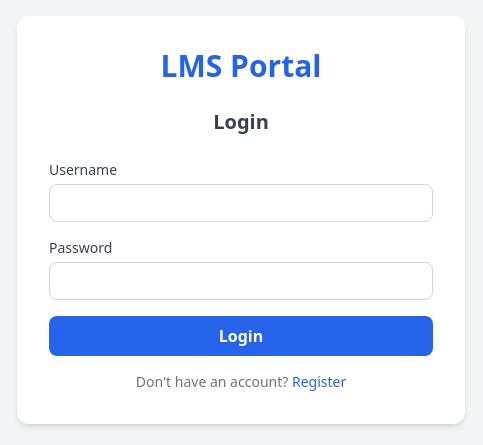
Scenario: Login Page › shows loading state while submitting
Type "student1" into the field labelled "Username" at (241, 203), box [49,184,433,222]
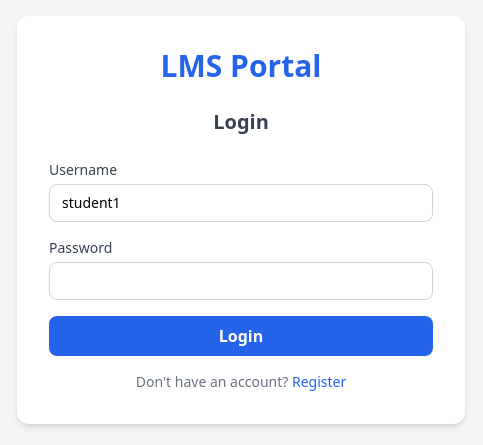
Type "pass1234" into the password field labelled "Password" at (241, 281), box [49,262,433,300]
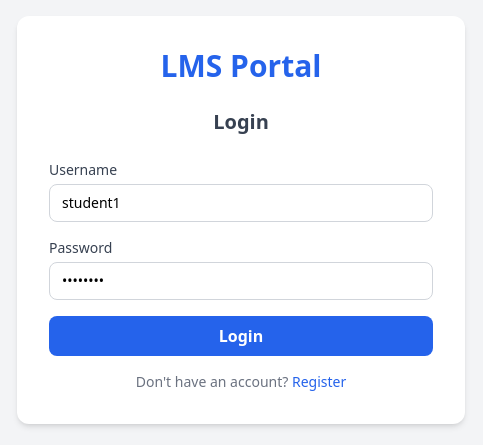
Click the button "Login" at (241, 336), box [49,316,433,356]
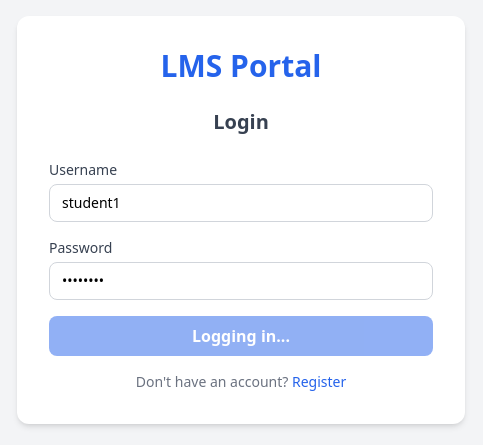
Check: the button "Logging in..." is disabled, box [49,316,433,356]
